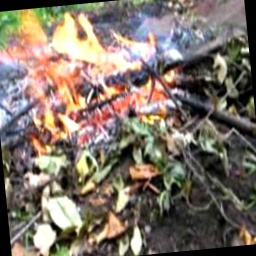fire: (0, 0, 182, 151)
